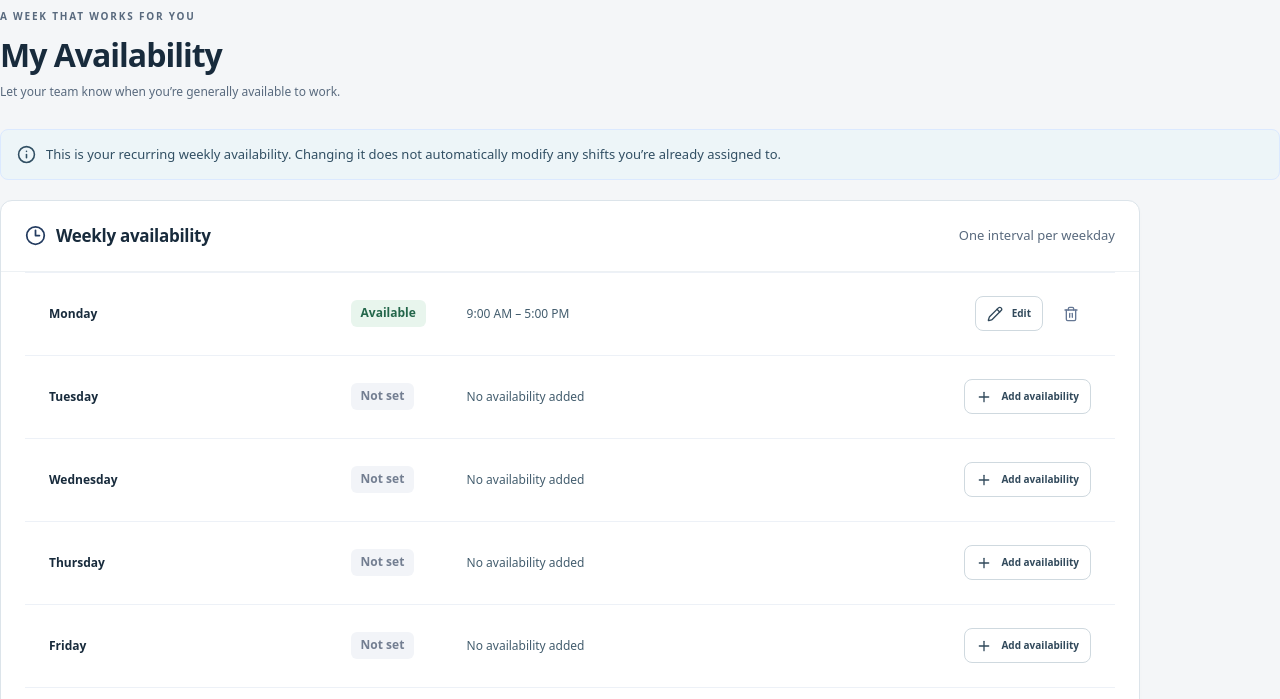
Test case: availability editor updates an existing interval with matching weekday
This screenshot has width=1280, height=699.
Click the button named "Edit Monday availability" at (1009,314), box [975,296,1043,331]
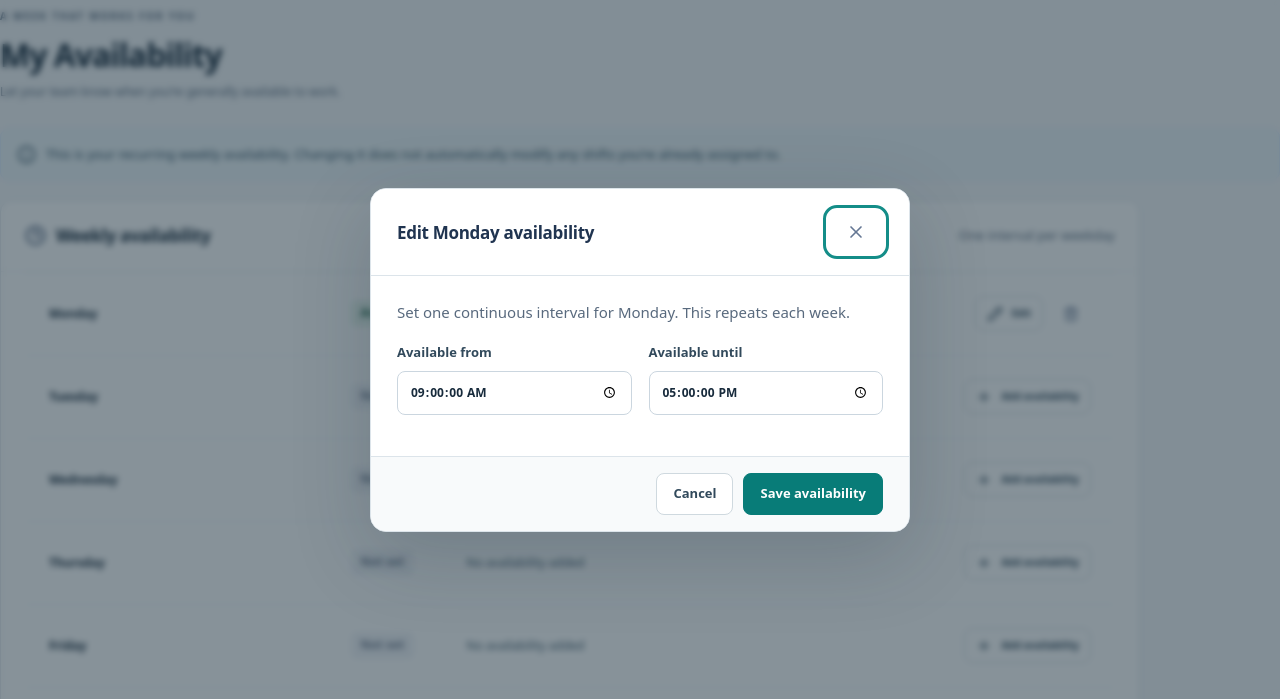
Replace the text in the time field labelled "Available until" with "18:00" at (766,393), box [648,371,883,415]
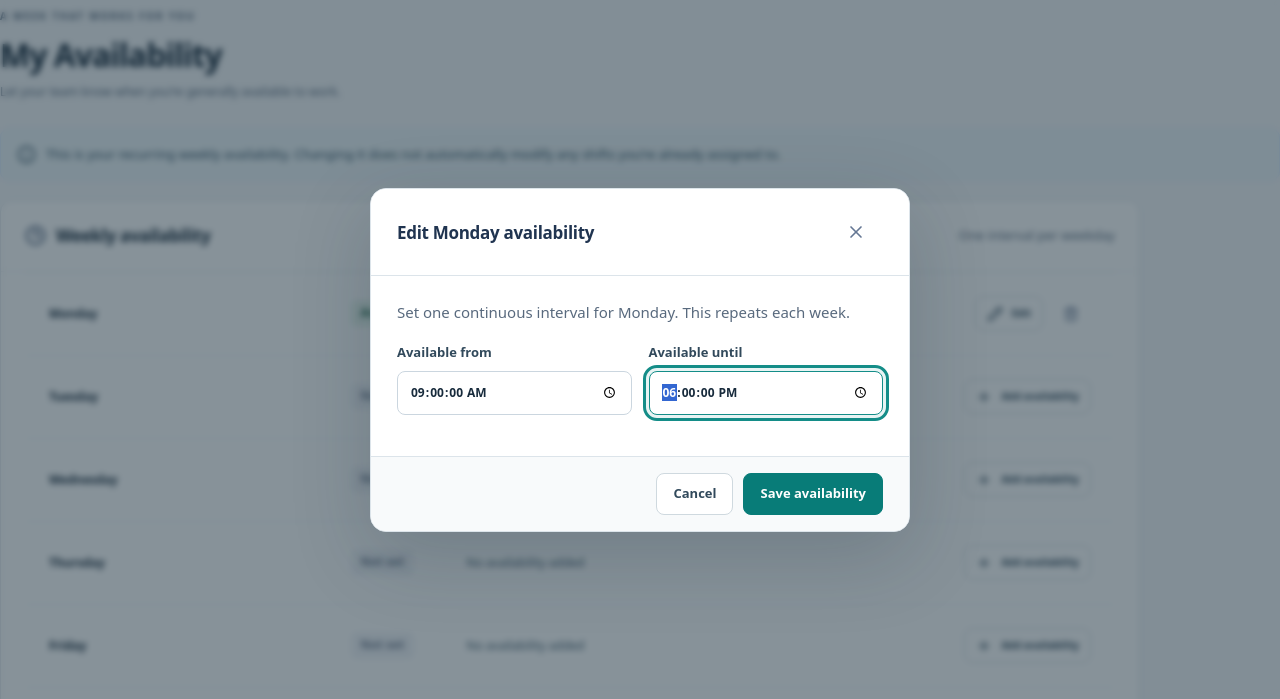
Click the button "Save availability" at (813,494), box [744,473,883,515]
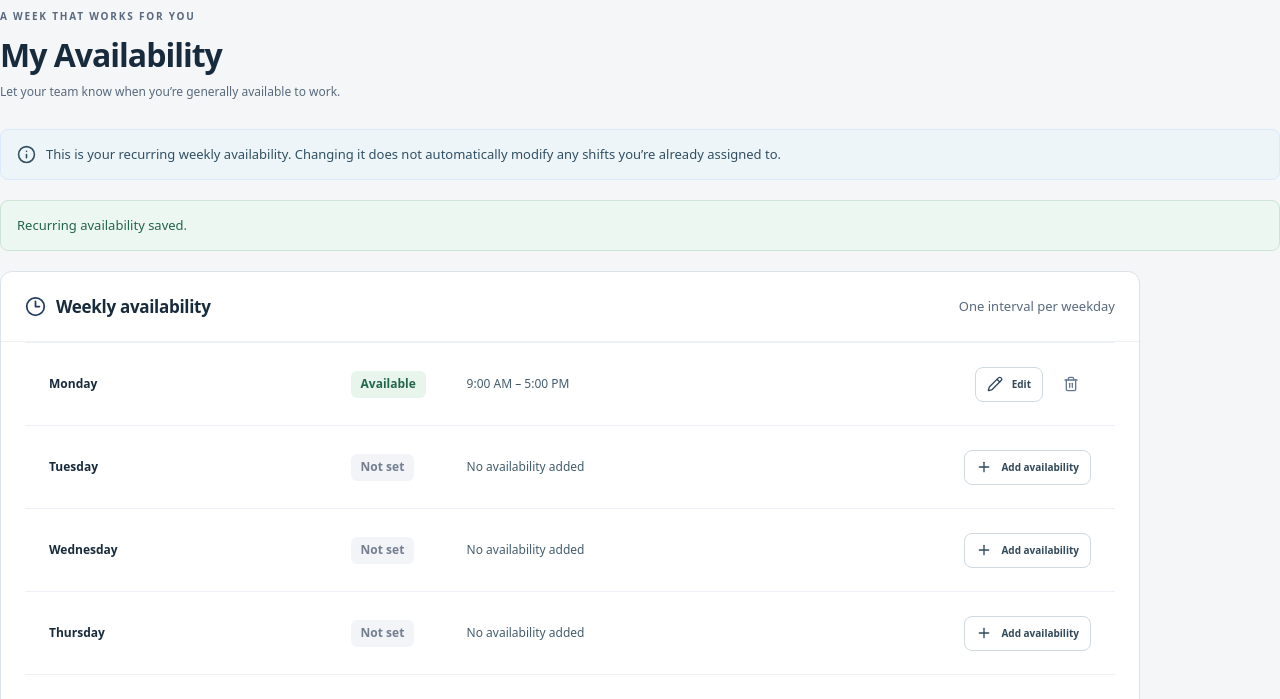
Result: the text "Recurring availability saved." is shown at [0,200,1279,251]
